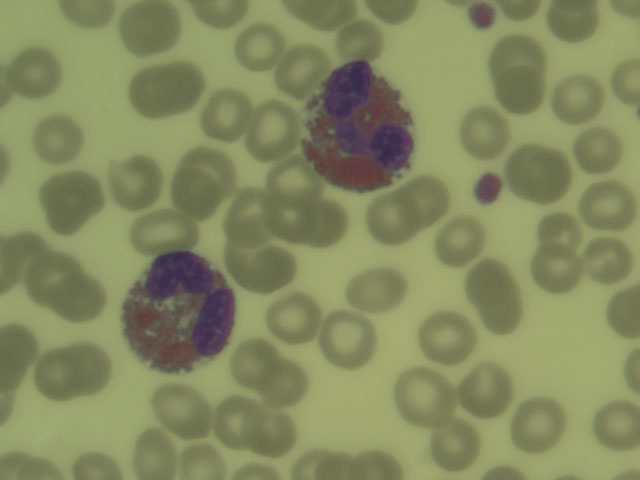Platelets: (476, 175, 501, 201), (468, 5, 494, 29)
RBC: (122, 1, 184, 58), (396, 368, 450, 424), (322, 313, 376, 367), (153, 386, 210, 437), (516, 394, 567, 451), (230, 248, 297, 291), (465, 360, 514, 417), (299, 197, 354, 247), (581, 186, 638, 234), (130, 214, 200, 253), (348, 269, 409, 312), (422, 312, 473, 362), (267, 291, 317, 341), (260, 191, 308, 243), (252, 102, 298, 156), (113, 155, 162, 205), (531, 245, 581, 294), (54, 273, 108, 317), (558, 74, 608, 121), (443, 214, 489, 265), (534, 210, 585, 256), (369, 191, 413, 244), (124, 64, 167, 118), (257, 359, 312, 401), (432, 421, 481, 468), (28, 254, 80, 297), (281, 44, 328, 91), (11, 52, 62, 95), (63, 344, 109, 391), (183, 149, 237, 189), (207, 87, 249, 138), (592, 404, 640, 448), (172, 173, 221, 216), (463, 107, 506, 156), (133, 431, 176, 480), (402, 179, 452, 221), (215, 395, 256, 446), (254, 407, 299, 453), (534, 149, 573, 201), (237, 27, 284, 70), (586, 239, 631, 283), (165, 61, 205, 110), (229, 343, 278, 383), (494, 36, 544, 74), (232, 191, 270, 240), (38, 116, 81, 159), (338, 21, 381, 64), (496, 75, 546, 111), (273, 160, 319, 199), (577, 132, 624, 170), (354, 445, 404, 480), (178, 441, 222, 480), (470, 260, 513, 299), (1, 324, 35, 372), (38, 349, 72, 397), (554, 5, 597, 41), (194, 1, 249, 29), (11, 232, 43, 280), (59, 1, 115, 28), (365, 1, 419, 29), (611, 286, 640, 337), (487, 290, 523, 331), (54, 196, 94, 232), (78, 451, 122, 480), (513, 147, 541, 190), (292, 450, 332, 480), (41, 175, 79, 205), (320, 452, 359, 480), (27, 449, 62, 480), (313, 1, 351, 24), (624, 347, 640, 399), (1, 453, 29, 480), (284, 2, 324, 20), (503, 1, 540, 18)
WBC: (123, 252, 236, 367), (315, 70, 412, 188)
